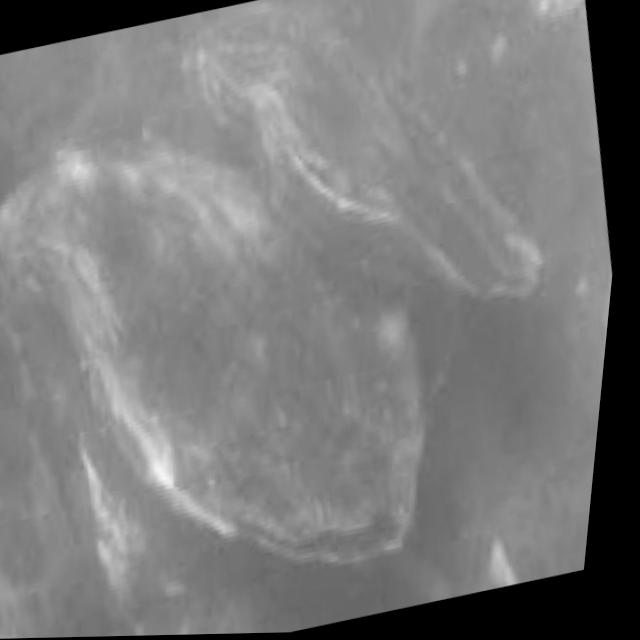Oyster-Closed: (0, 139, 430, 558)
Oyster-Indeterminate: (170, 12, 551, 292)
